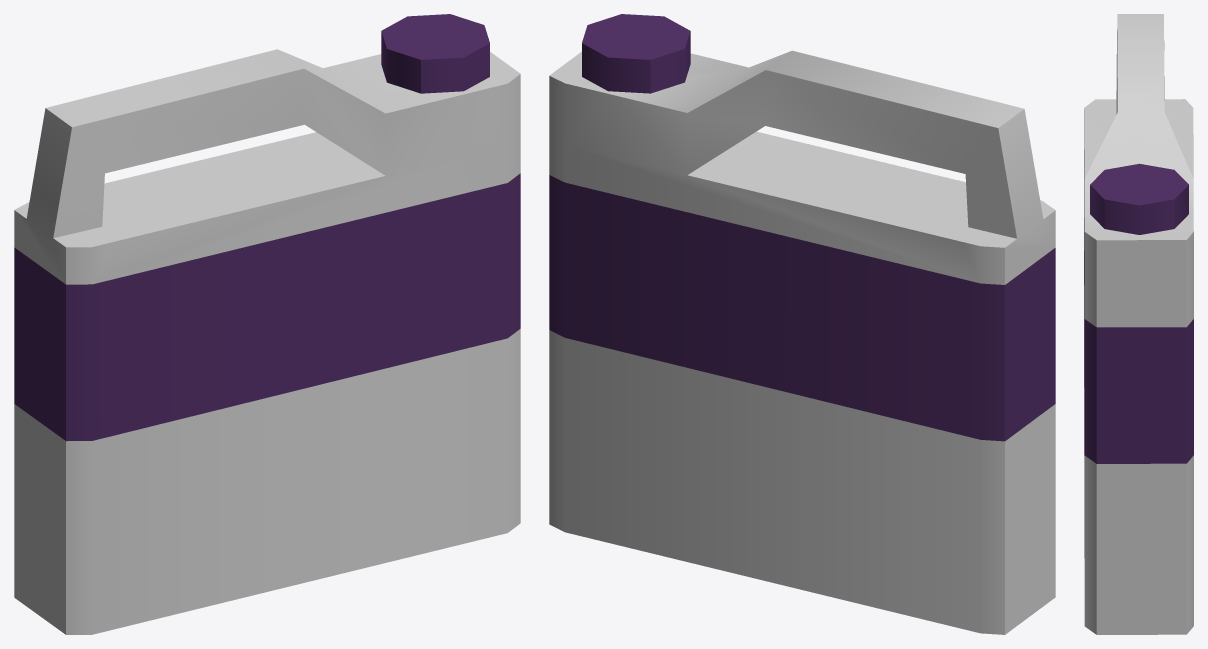
File: waterjug.FBX
3 views of the same model, side by side, from view 1: azimuth 30°, elevation 25°; view 2: azimuth 150°, elevation 25°; view 3: azimuth 270°, elevation 25° (orthographic). The views are drawn at different scales.
Visible parts, largest first — view 1: Cylinder001; view 2: Cylinder001; view 3: Cylinder001.
Part boxes in pixels (x1,y1,x2,y2): Cylinder001: (14,14,520,634); Cylinder001: (549,14,1055,634); Cylinder001: (1084,14,1193,634).
Bounding box in the file's own units: 40.31 × 41.87 × 9.56.
